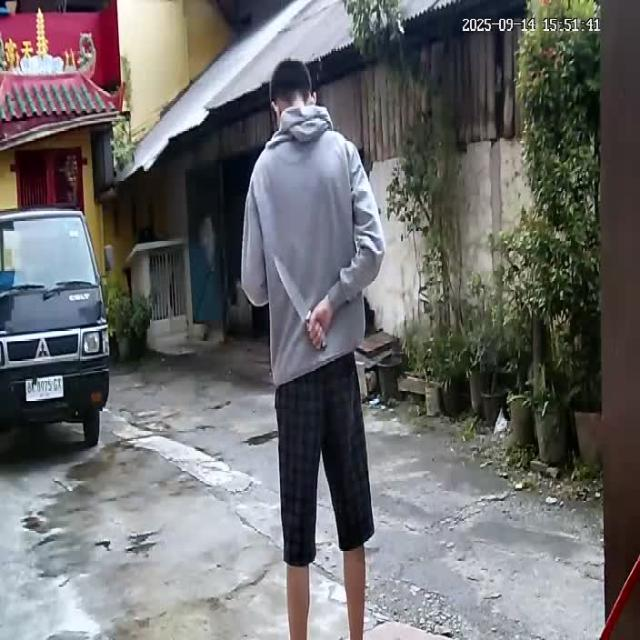senjata_tajam: (270, 252, 311, 325)
